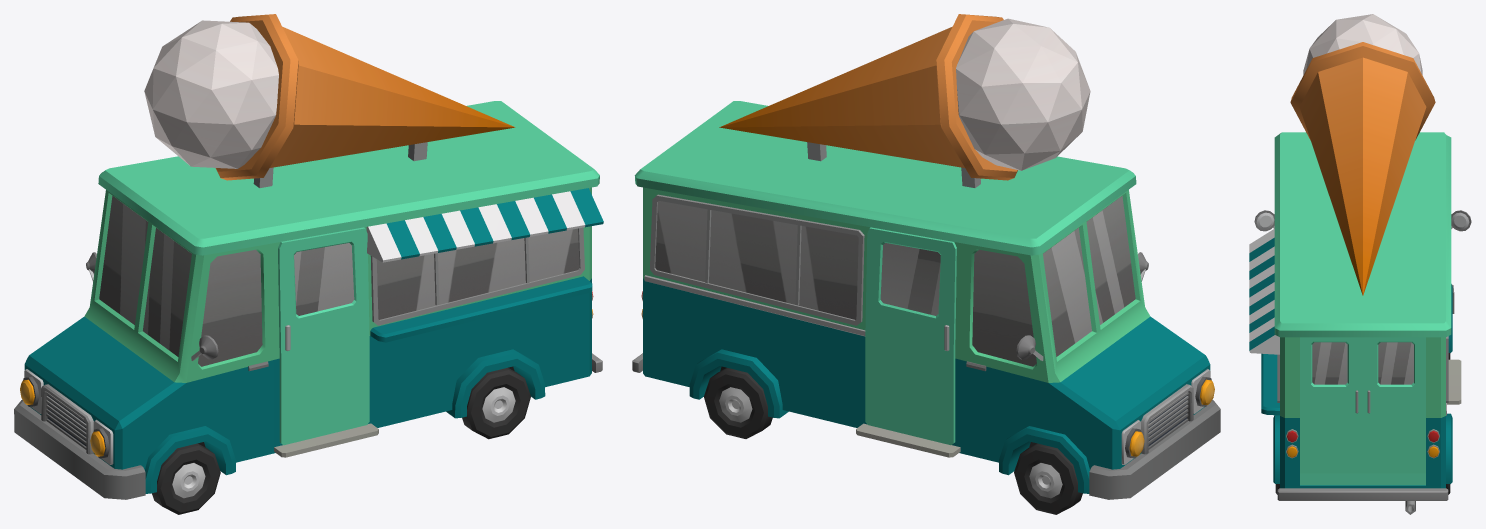
Rendered from IceTruck_2_D.gltf.
3 renders of one model, left to right at view 1: azimuth 30°, elevation 25°; view 2: azimuth 150°, elevation 25°; view 3: azimuth 270°, elevation 25°, orthographic. The views are drawn at different scales.
Parts seen in each view (by area): view 1: IceTruck_2_D, RL, FL; view 2: IceTruck_2_D, FR, RR; view 3: IceTruck_2_D.
Part boxes in pixels (bbox=[...]): IceTruck_2_D: bbox=[14, 14, 603, 499]; RL: bbox=[462, 367, 530, 439]; FL: bbox=[152, 443, 220, 514]; IceTruck_2_D: bbox=[632, 14, 1220, 499]; FR: bbox=[1014, 443, 1082, 514]; RR: bbox=[704, 368, 772, 438]; IceTruck_2_D: bbox=[1249, 14, 1471, 514].
Bounding box in the file's own units: 4.16 × 3.43 × 1.84.
4 materials, 4 textured.
